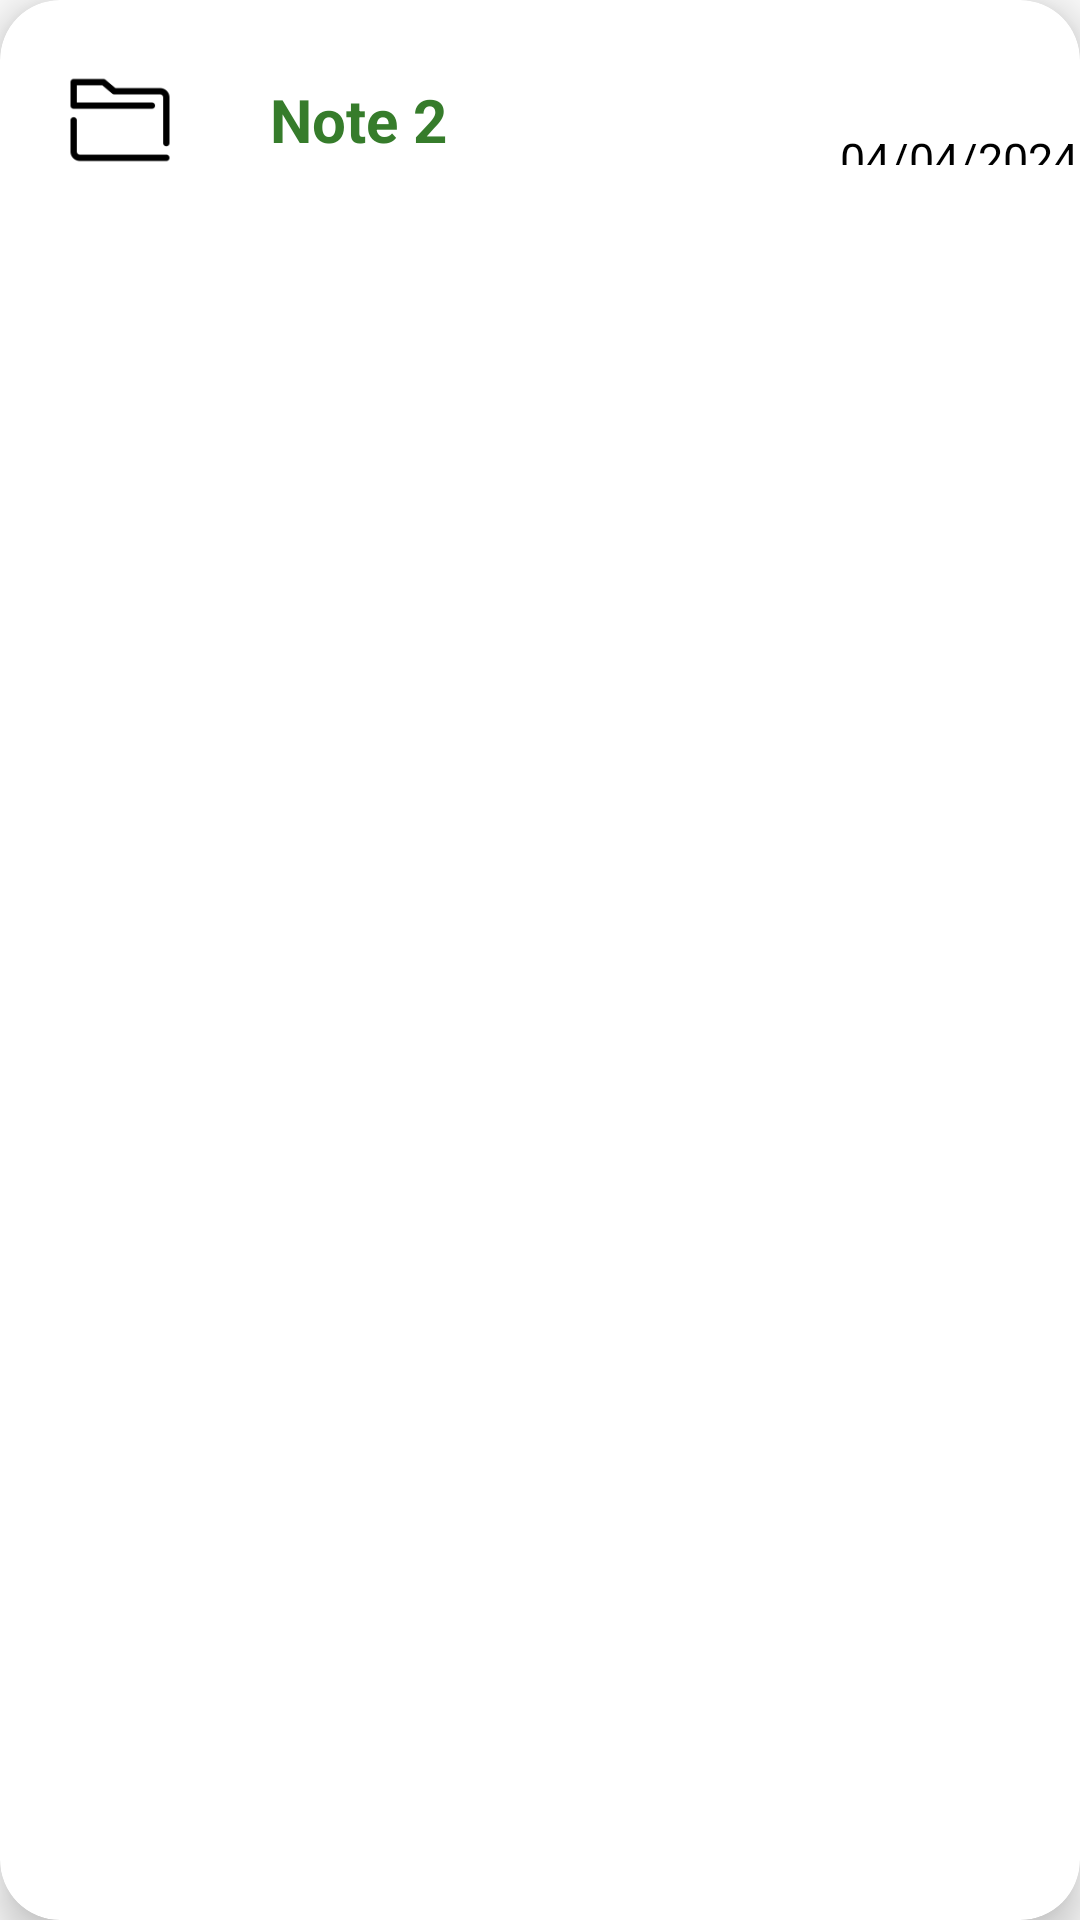

Icons on this 1080 x 1920 Android screen, each with the point to tap as point (x, y):
file: point (120, 120)
